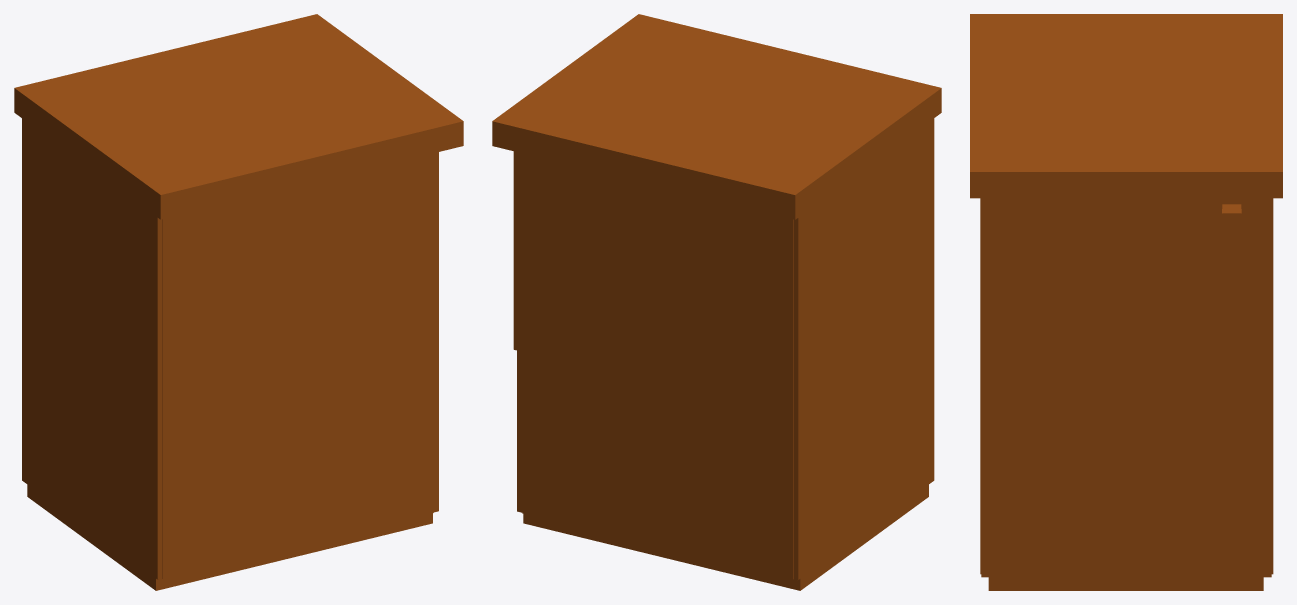
The model's file is MuebleIzq.obj.
3 views of the same model, side by side, from view 1: azimuth 30°, elevation 25°; view 2: azimuth 150°, elevation 25°; view 3: azimuth 270°, elevation 25° (orthographic). The views are drawn at different scales.
Visible parts, largest first — view 1: MuebleIzq:polySurface4; view 2: MuebleIzq:polySurface4; view 3: MuebleIzq:polySurface4.
Boxes of the visible parts, x1,y1,x2,y2 form: MuebleIzq:polySurface4: (14,14,463,590); MuebleIzq:polySurface4: (492,14,941,590); MuebleIzq:polySurface4: (970,14,1282,590).
Bounding box in the file's own units: 0.647 × 0.8229 × 0.5419.
Materials: 4 (4 with a texture image).
